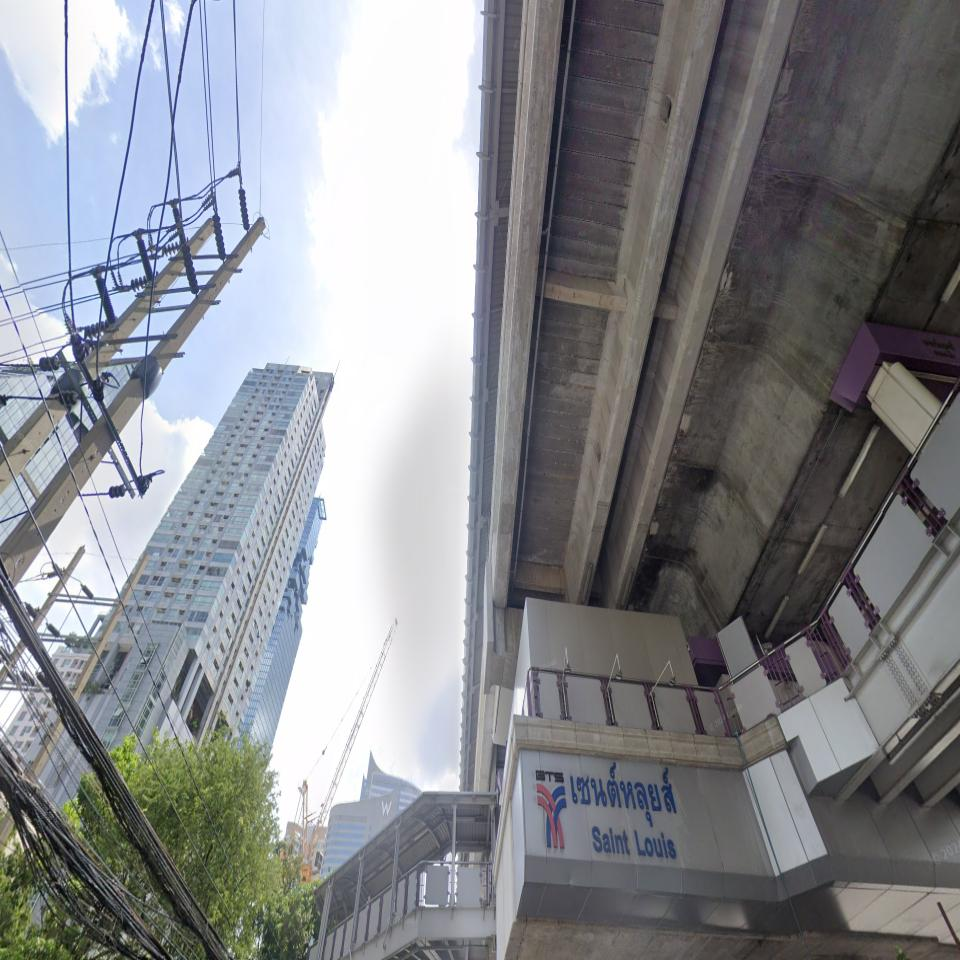signage: (534, 760, 679, 859), (568, 760, 678, 859)
